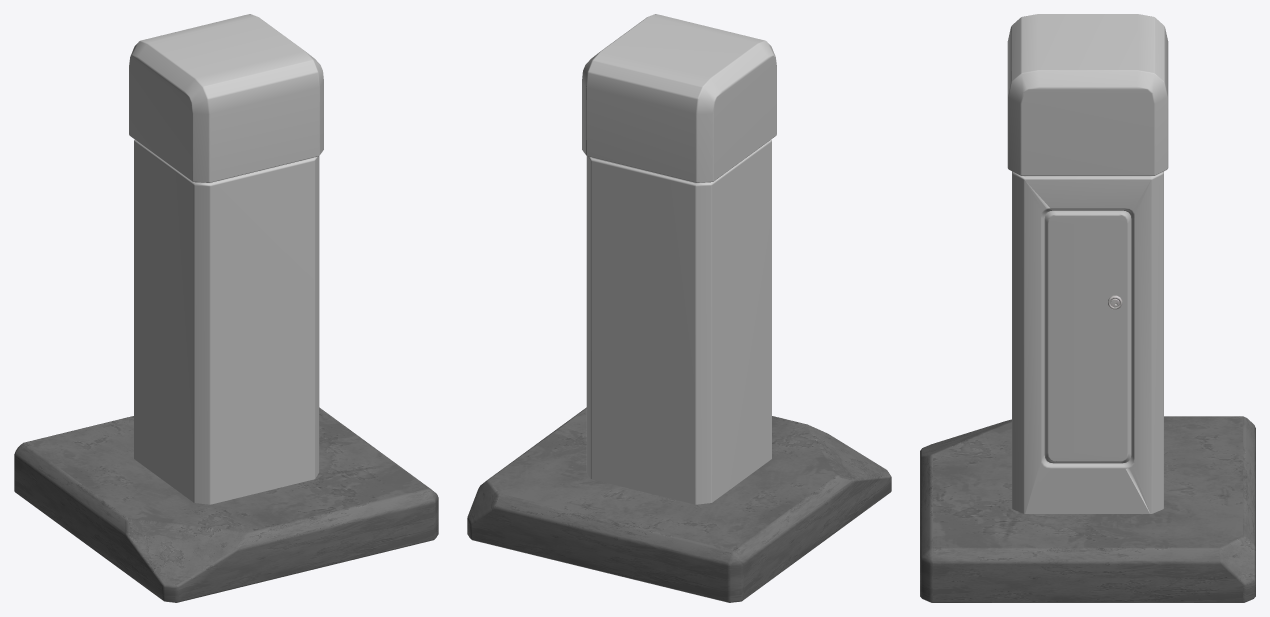
Rendered from BarrierPost_SM.FBX.
3 views of the same model, side by side, from view 1: azimuth 30°, elevation 25°; view 2: azimuth 150°, elevation 25°; view 3: azimuth 270°, elevation 25° (orthographic). The views are drawn at different scales.
Visible parts, largest first — view 1: BarrierPost_SM, BarrierBase_SM; view 2: BarrierPost_SM, BarrierBase_SM; view 3: BarrierPost_SM, BarrierBase_SM.
Part boxes in pixels (x1,y1,x2,y2): BarrierPost_SM: [129, 14, 323, 504]; BarrierBase_SM: [14, 407, 438, 602]; BarrierPost_SM: [582, 14, 776, 504]; BarrierBase_SM: [467, 407, 891, 602]; BarrierPost_SM: [1007, 14, 1168, 513]; BarrierBase_SM: [920, 416, 1255, 602].
Bounding box in the file's own units: 78.84 × 127 × 78.84.
